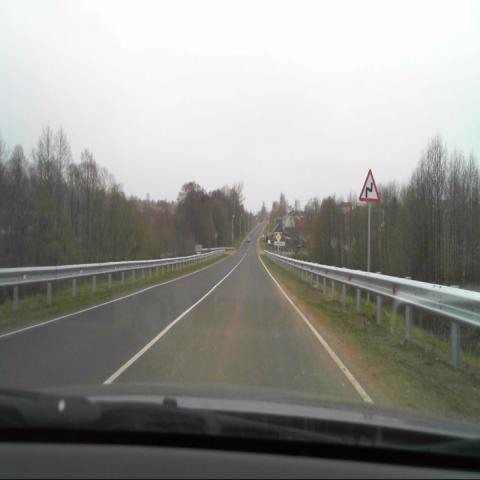1_12: (360, 169, 380, 202)
